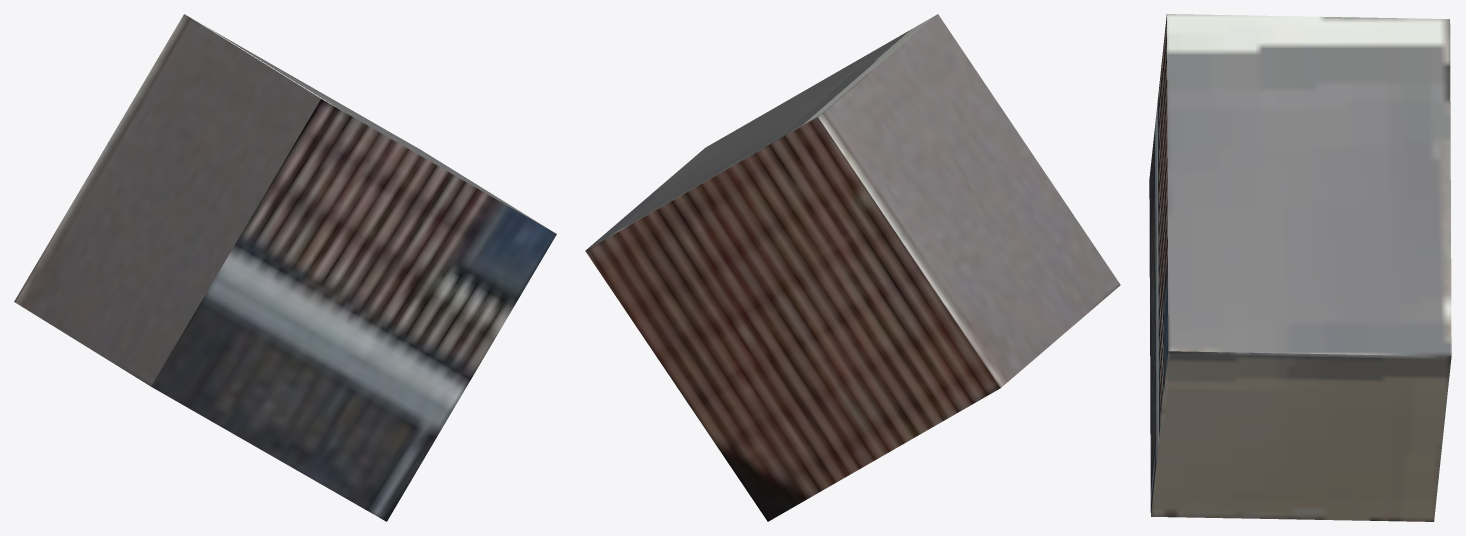
3 views of the same model, side by side, from view 1: azimuth 30°, elevation 25°; view 2: azimuth 150°, elevation 25°; view 3: azimuth 270°, elevation 25° (orthographic). The views are drawn at different scales.
Parts seen in each view (by area): view 1: BAG_0599100100019953; view 2: BAG_0599100100019953; view 3: BAG_0599100100019953.
Part boxes in pixels (x1,y1,x2,y2): BAG_0599100100019953: (14,14,556,521); BAG_0599100100019953: (585,14,1120,521); BAG_0599100100019953: (1149,14,1451,521).
Size of the model in its own units: 3.56 by 3.55 by 2.02.
1 material, 1 textured.
